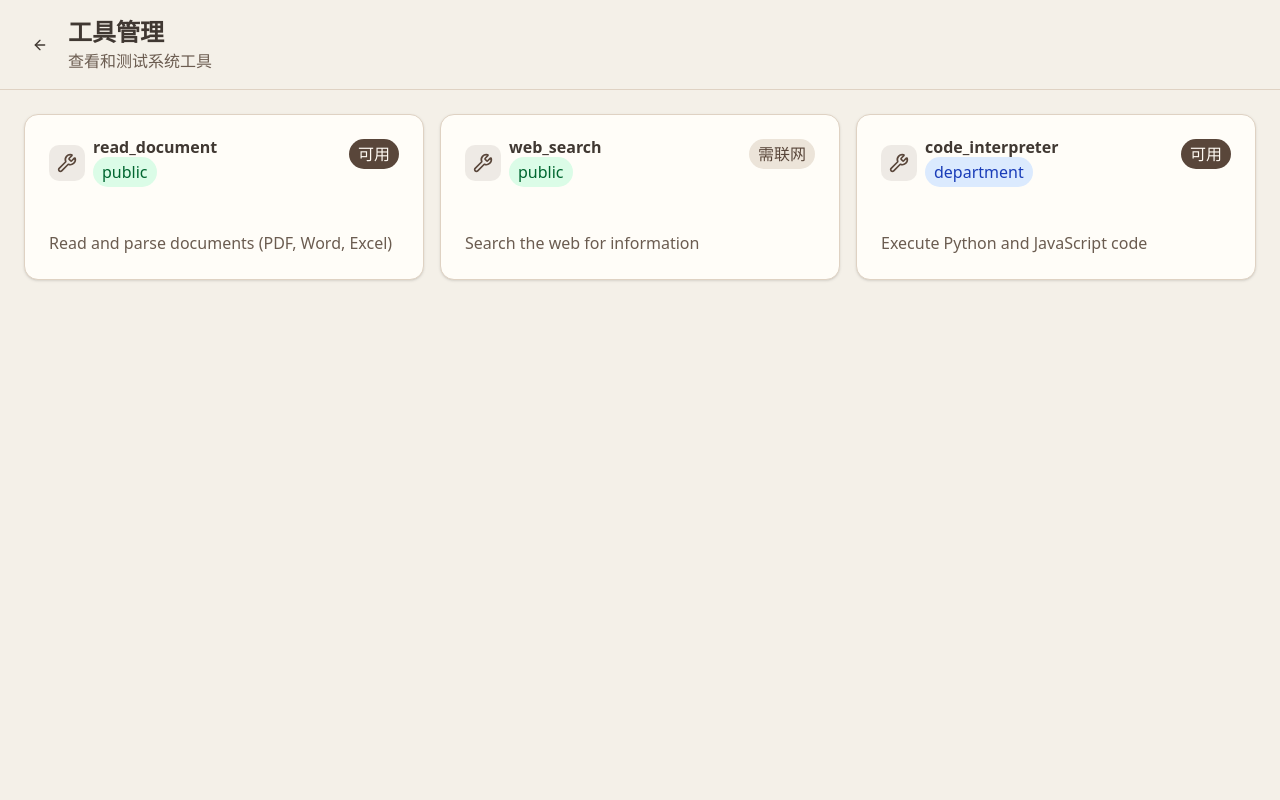
Test: ToolsPage › displays error for invalid JSON input
Expected: the element with test id "tool-list" is shown, x1=24 y1=114 x2=1256 y2=280
Click the element with test id "tool-card": (224, 197) x1=24 y1=114 x2=424 y2=280
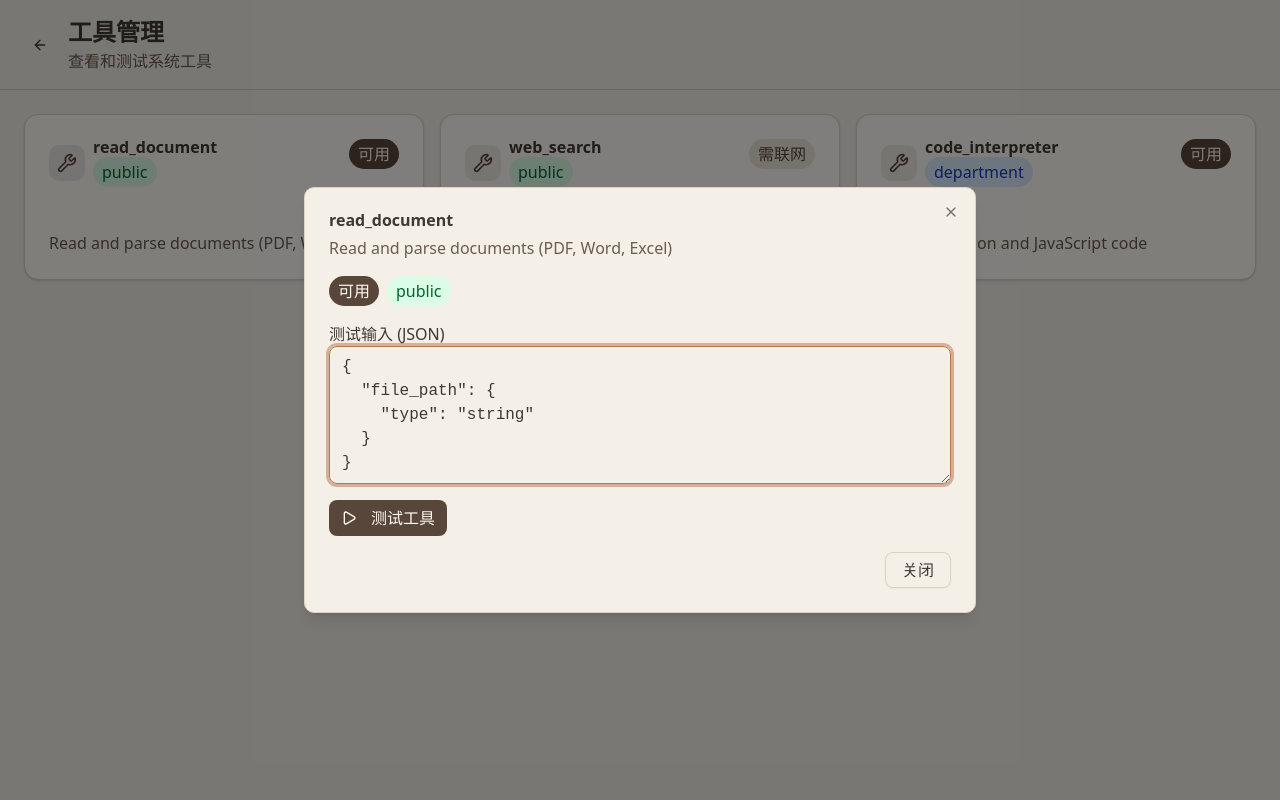
Result: the button "测试工具" is shown at x1=329 y1=500 x2=447 y2=536
Clear the text box with placeholder "{\"key\": \"value\"}": (640, 415) x1=329 y1=346 x2=951 y2=484
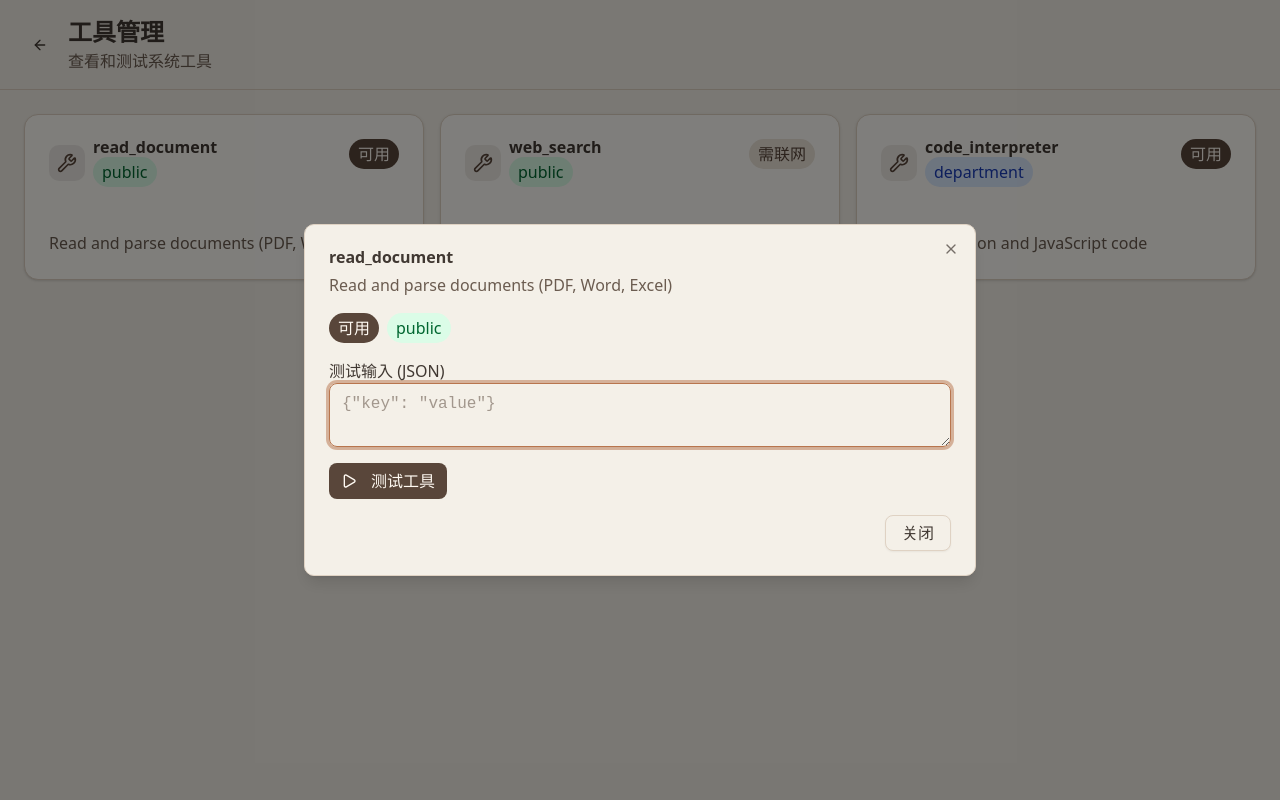
In the text box with placeholder "{\"key\": \"value\"}": (640, 415) x1=329 y1=383 x2=951 y2=447, type "not valid json"
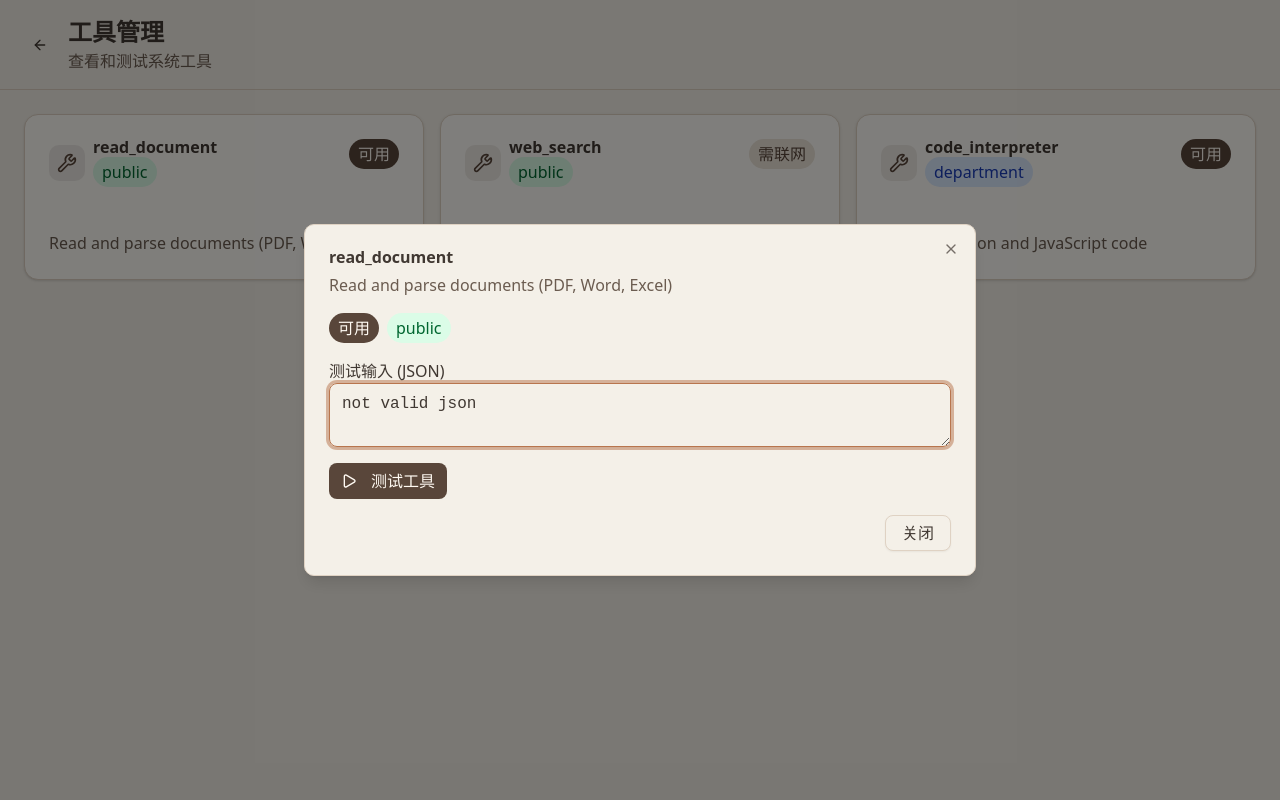
Click the button "测试工具": (388, 481) x1=329 y1=463 x2=447 y2=499
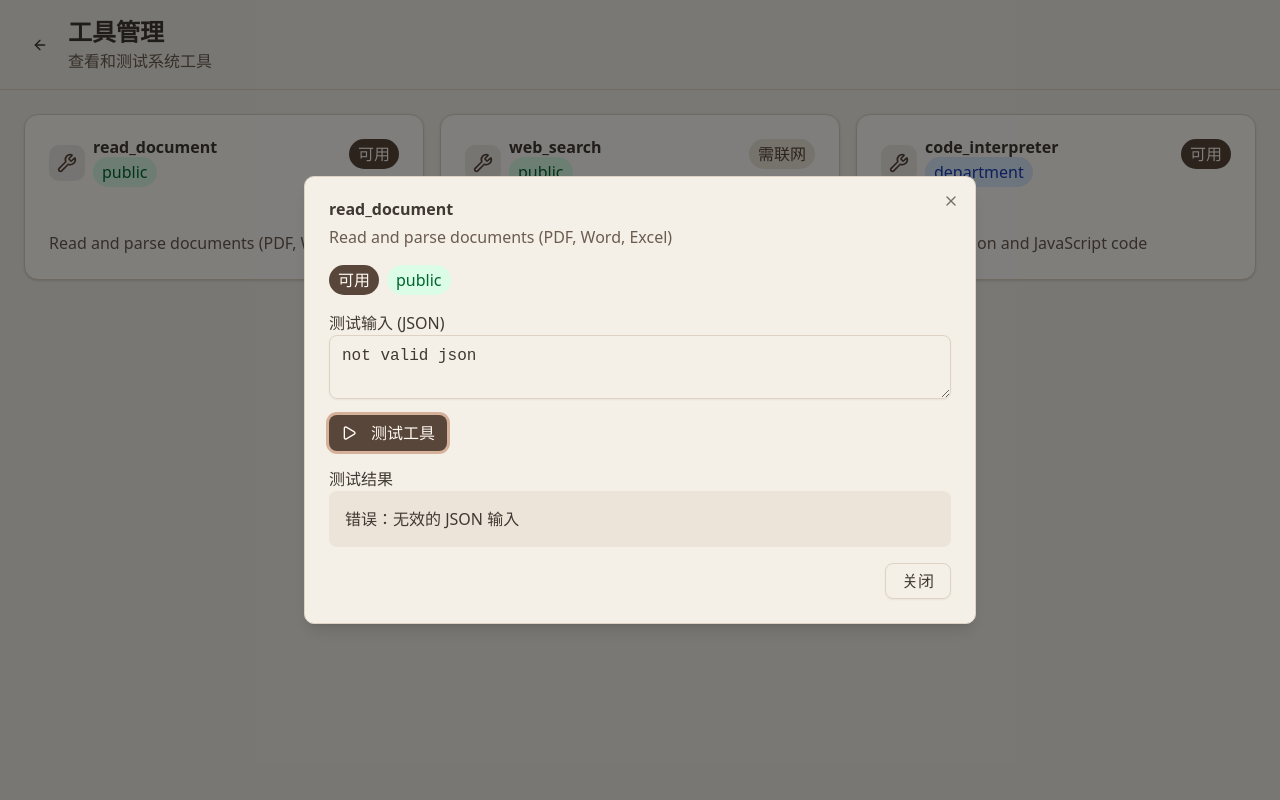
Result: the text "错误：无效的 JSON 输入" is shown at x1=329 y1=491 x2=951 y2=547
